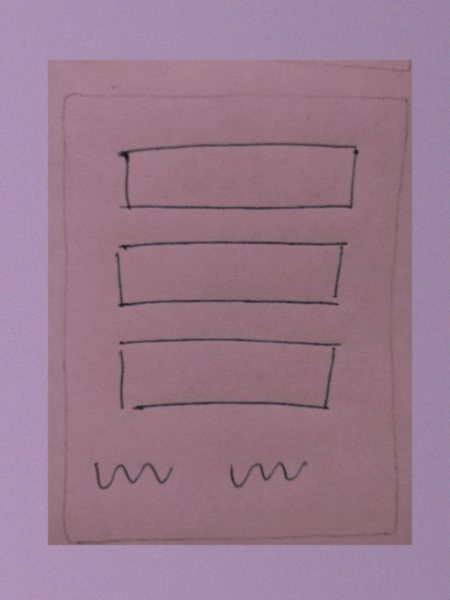text: (85, 452, 183, 495), (216, 449, 310, 492)
text_input: (107, 333, 348, 420), (110, 136, 361, 217), (107, 234, 352, 315)
